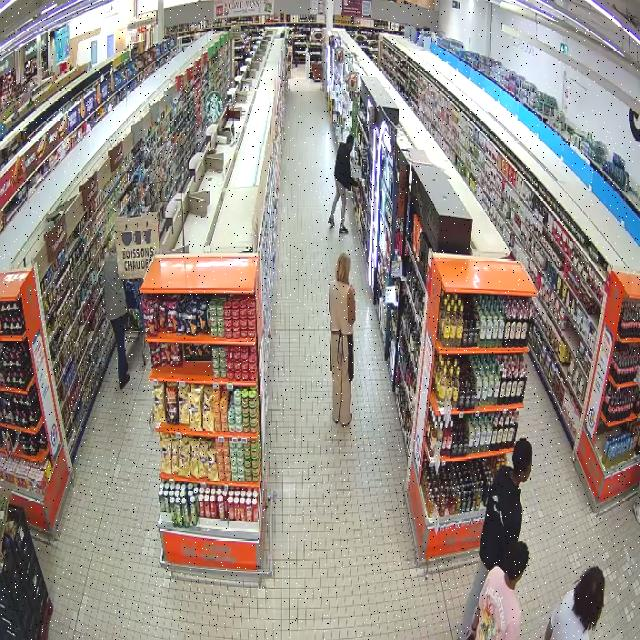article: (357, 187, 364, 208)
hands: (466, 629, 476, 639), (350, 285, 355, 296), (357, 180, 362, 189)
person: (459, 438, 532, 639), (467, 541, 528, 639), (328, 253, 355, 426), (545, 567, 605, 639), (103, 240, 129, 389), (327, 134, 363, 233)
